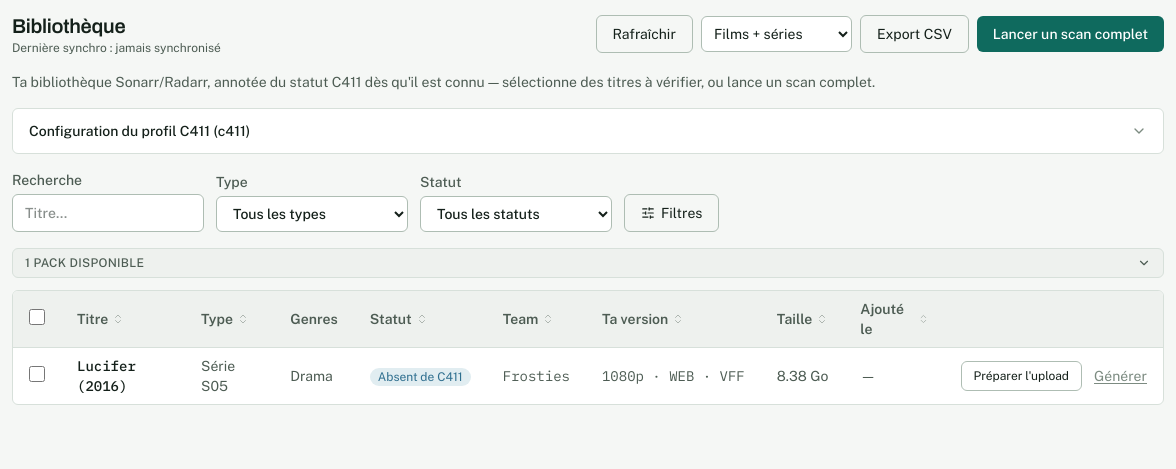
Scenario: LibraryPage › 'Preparer le pack' est desactive si une saison du pack n'est pas visible dans la page/le filtre courant
This screenshot has width=1176, height=469.
What coordinates should you click on to do the following:
click the button "1 pack disponible"
I would click on:
 (48, 263)
Its box is [13, 249, 1163, 277].
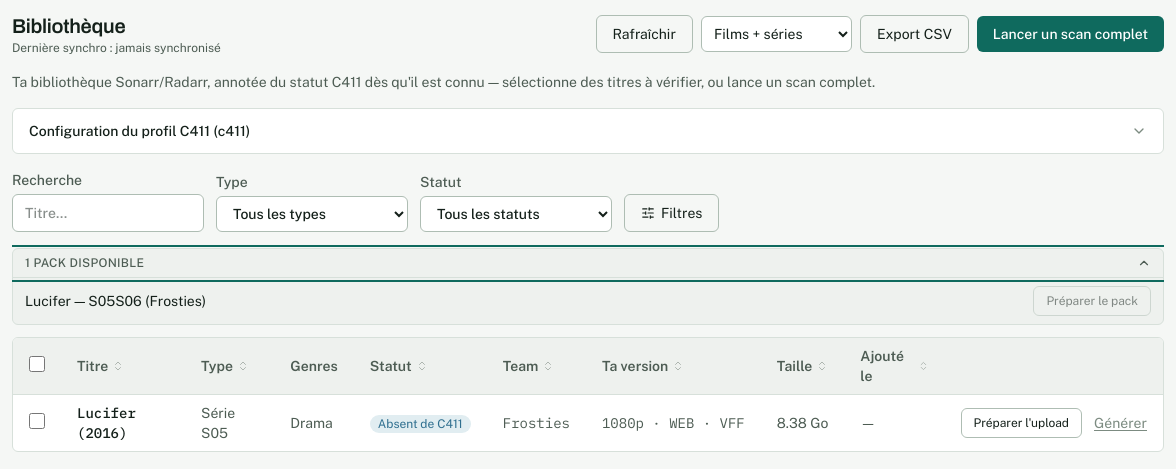
Result: the button "Préparer le pack" is disabled at [1033, 286, 1151, 316]
